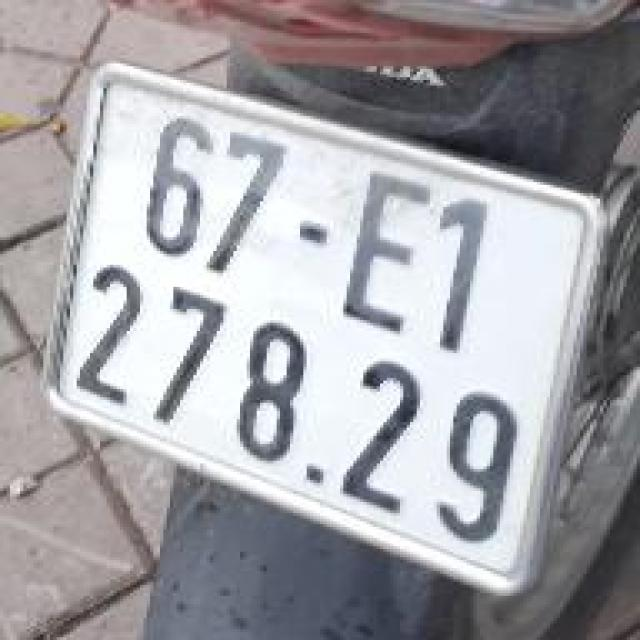1: (411, 189, 507, 377)
2: (328, 346, 440, 528), (66, 252, 156, 421)
6: (129, 99, 224, 273)
7: (190, 121, 304, 291), (138, 276, 249, 437)
8: (220, 307, 328, 478)
9: (417, 376, 537, 557)
E: (325, 158, 446, 349)
